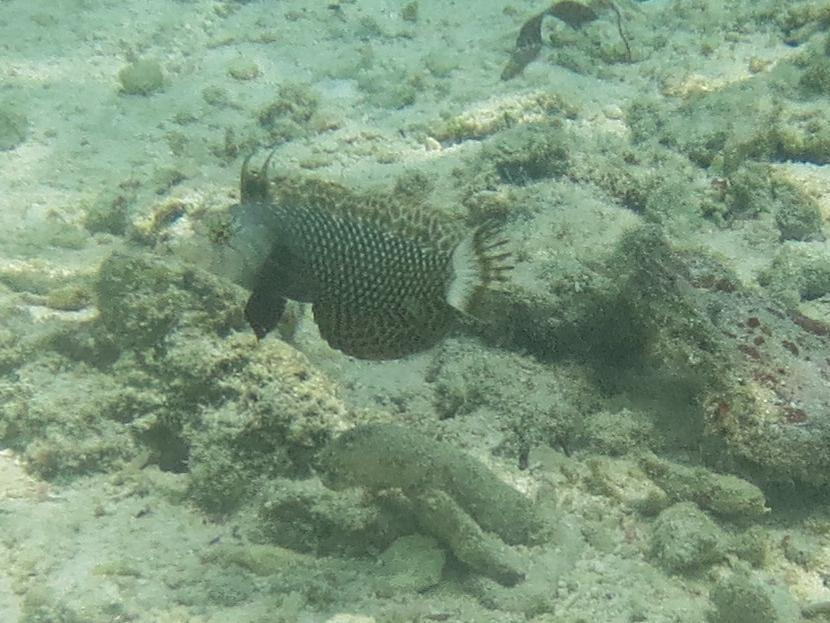Fish: (168, 121, 533, 380)
